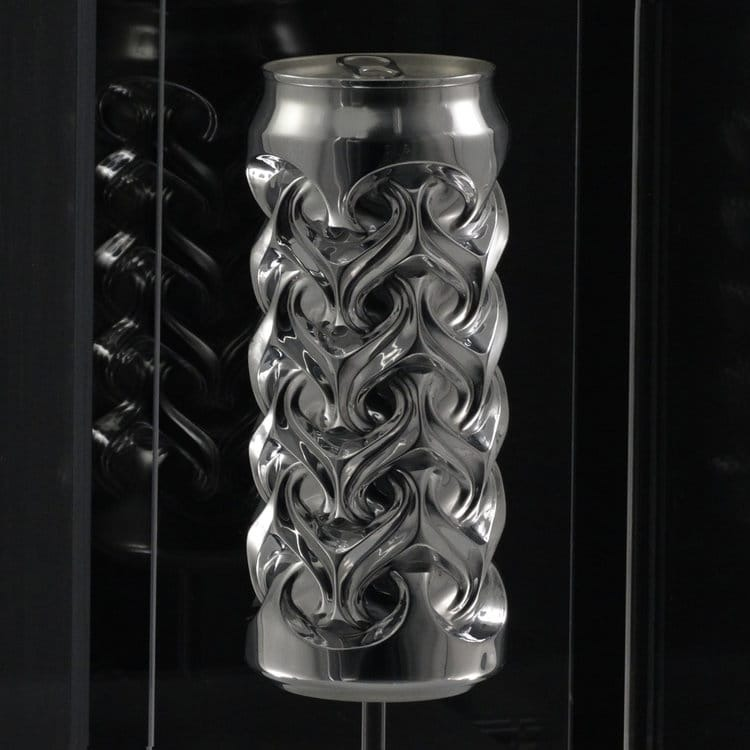metal: (237, 50, 512, 703)
